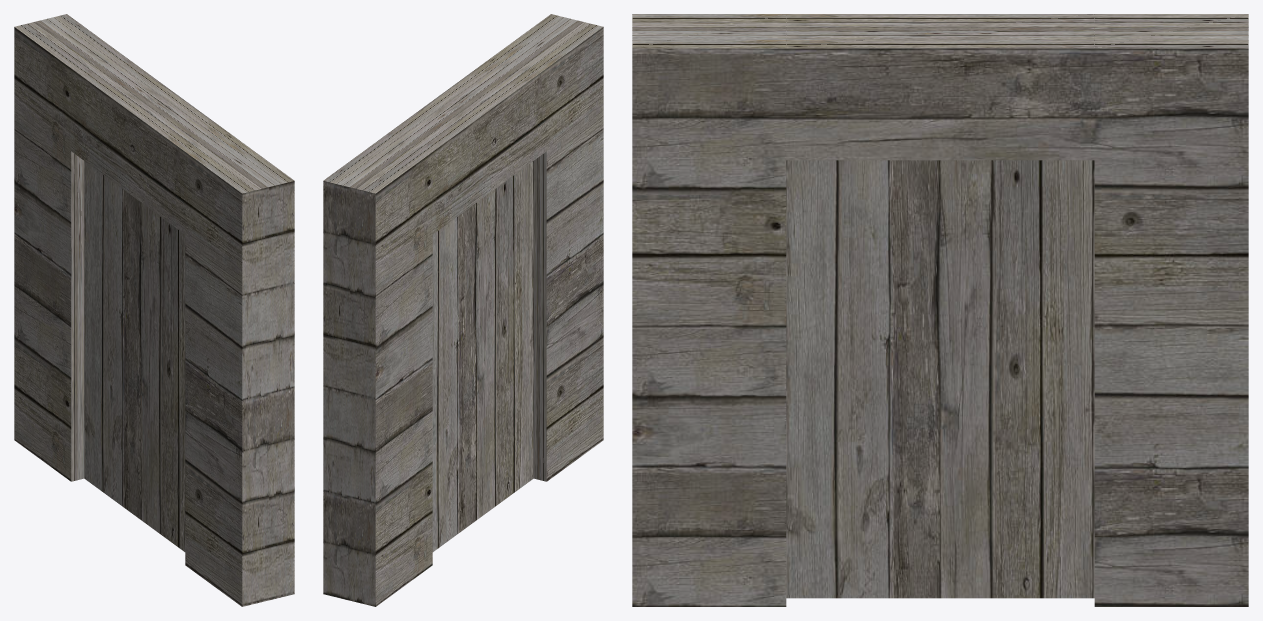
Rendered from door.glb.
3 views of the same model, side by side, from view 1: azimuth 30°, elevation 25°; view 2: azimuth 150°, elevation 25°; view 3: azimuth 270°, elevation 25° (orthographic). The views are drawn at different scales.
Visible parts, largest first — view 1: doorway, door; view 2: doorway, door; view 3: doorway, door.
Part boxes in pixels (<box>): doorway: <box>14,14,294,606</box>; door: <box>84,161,185,551</box>; doorway: <box>323,14,603,606</box>; door: <box>432,161,533,551</box>; doorway: <box>632,14,1248,606</box>; door: <box>786,160,1094,598</box>.
Bounding box in the file's own units: 0.4 × 3 × 3.
2 materials, 2 textured.
